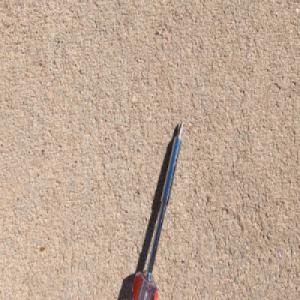Screwdriver: (125, 117, 182, 300)
